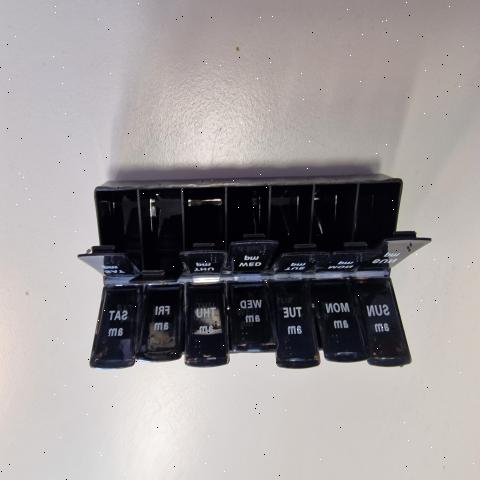Open: (132, 187, 186, 282), (79, 191, 141, 269), (362, 183, 430, 240), (272, 186, 324, 254), (316, 186, 370, 247), (230, 190, 280, 247), (187, 187, 228, 252), (133, 292, 144, 368), (313, 291, 326, 351), (179, 290, 187, 359), (228, 294, 230, 353)
